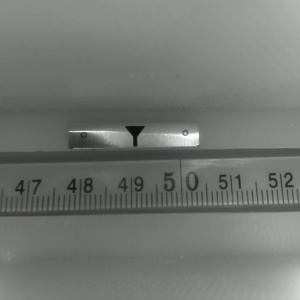0: (185, 172, 199, 191)
1: (234, 174, 240, 190)
2: (283, 172, 293, 189)
4: (14, 180, 26, 195), (66, 179, 77, 193), (117, 177, 127, 192)
5: (163, 172, 175, 191), (267, 172, 278, 189), (218, 175, 227, 190)
7: (31, 180, 42, 194)
8: (82, 177, 92, 193)
9: (133, 176, 143, 192)
finger: (123, 126, 145, 147)
